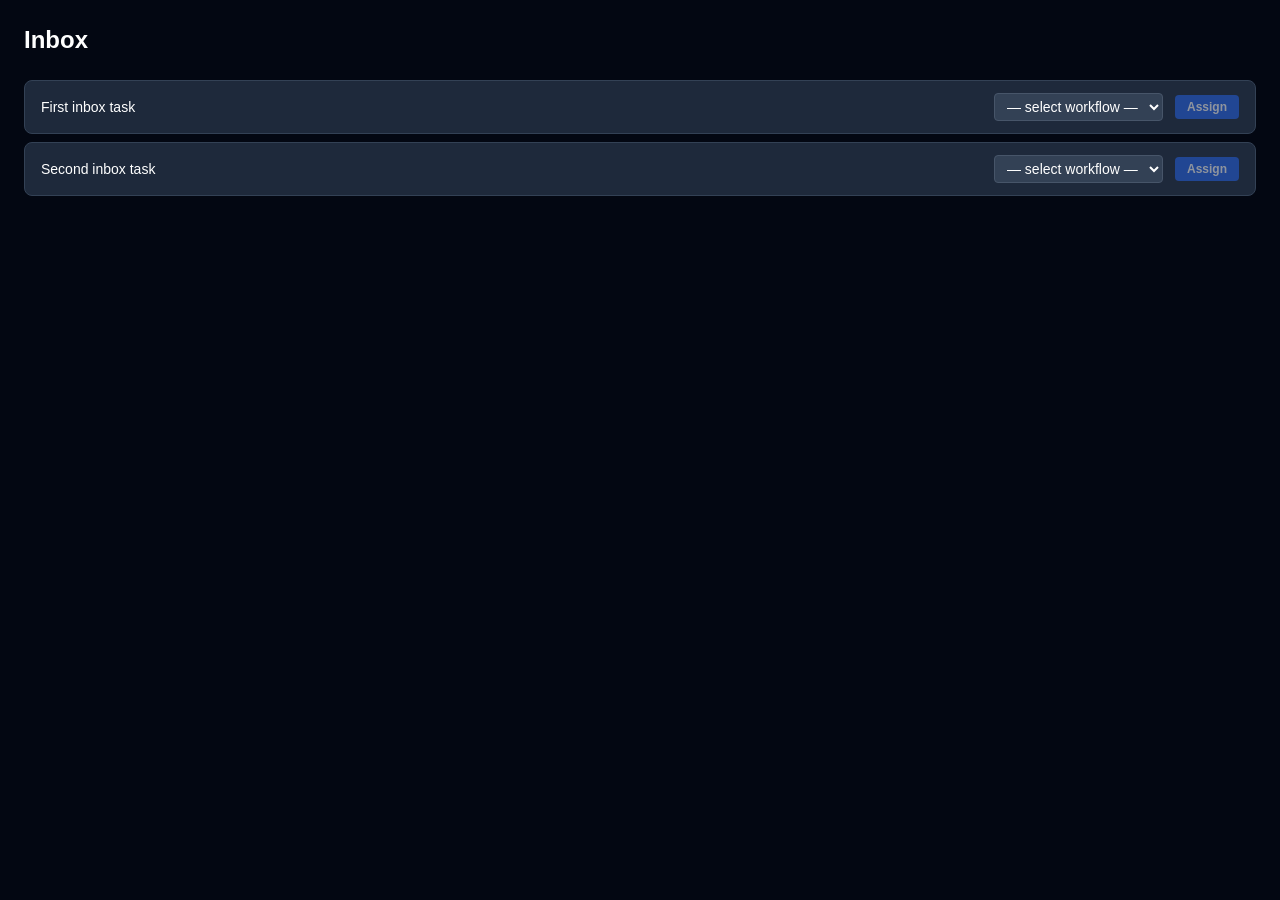
it: shows a toast and keeps the task in the list when the Assign PATCH returns a 500
Expected: the text "First inbox task" is shown, [41,99,135,115]
Select "Alpha" in the dropdown named "Assign \"First inbox task\" to a workflow" at (1078, 107), box [994,93,1163,121]
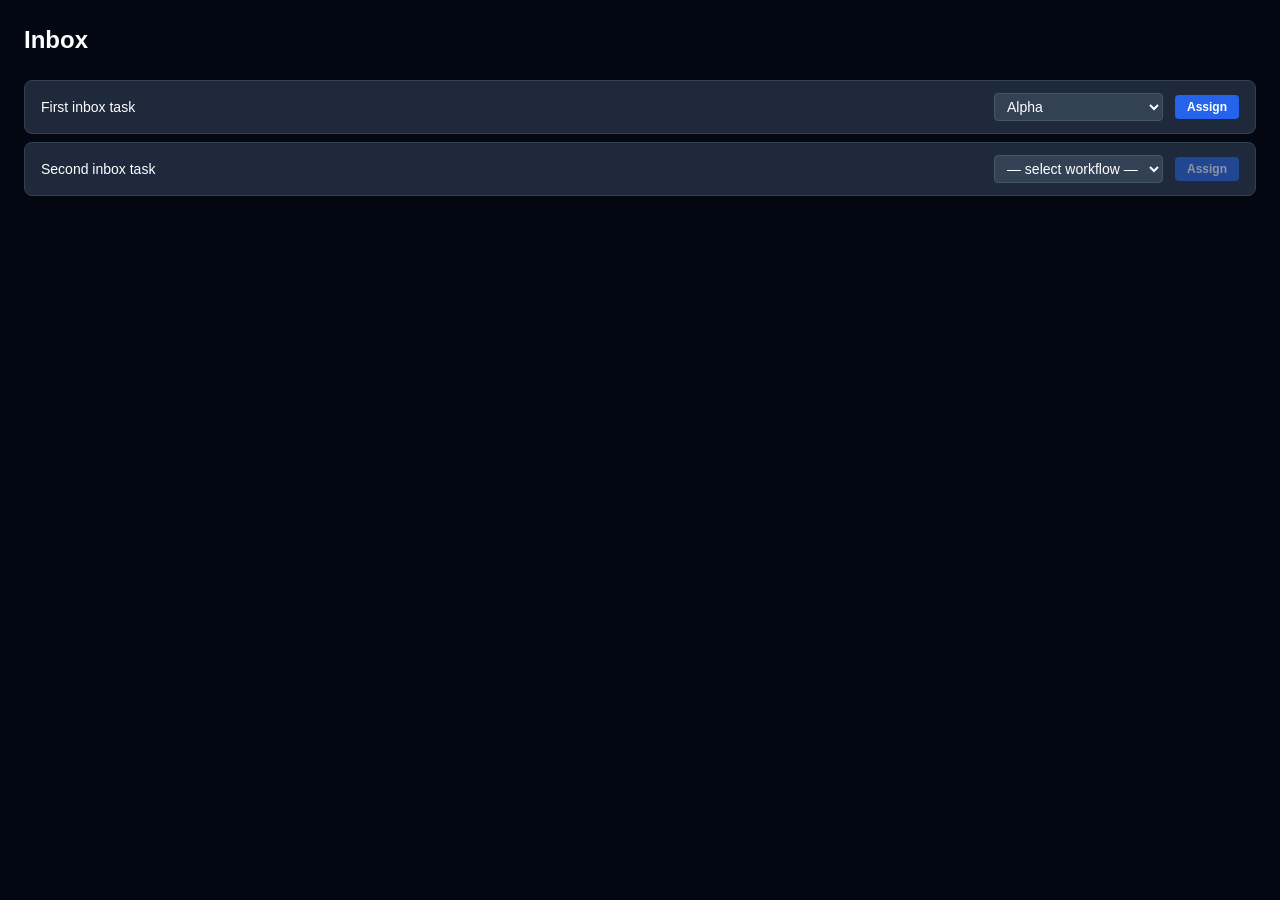
Click the button "Assign" in the row of "First inbox task" at (1207, 107), box [1175,95,1239,119]
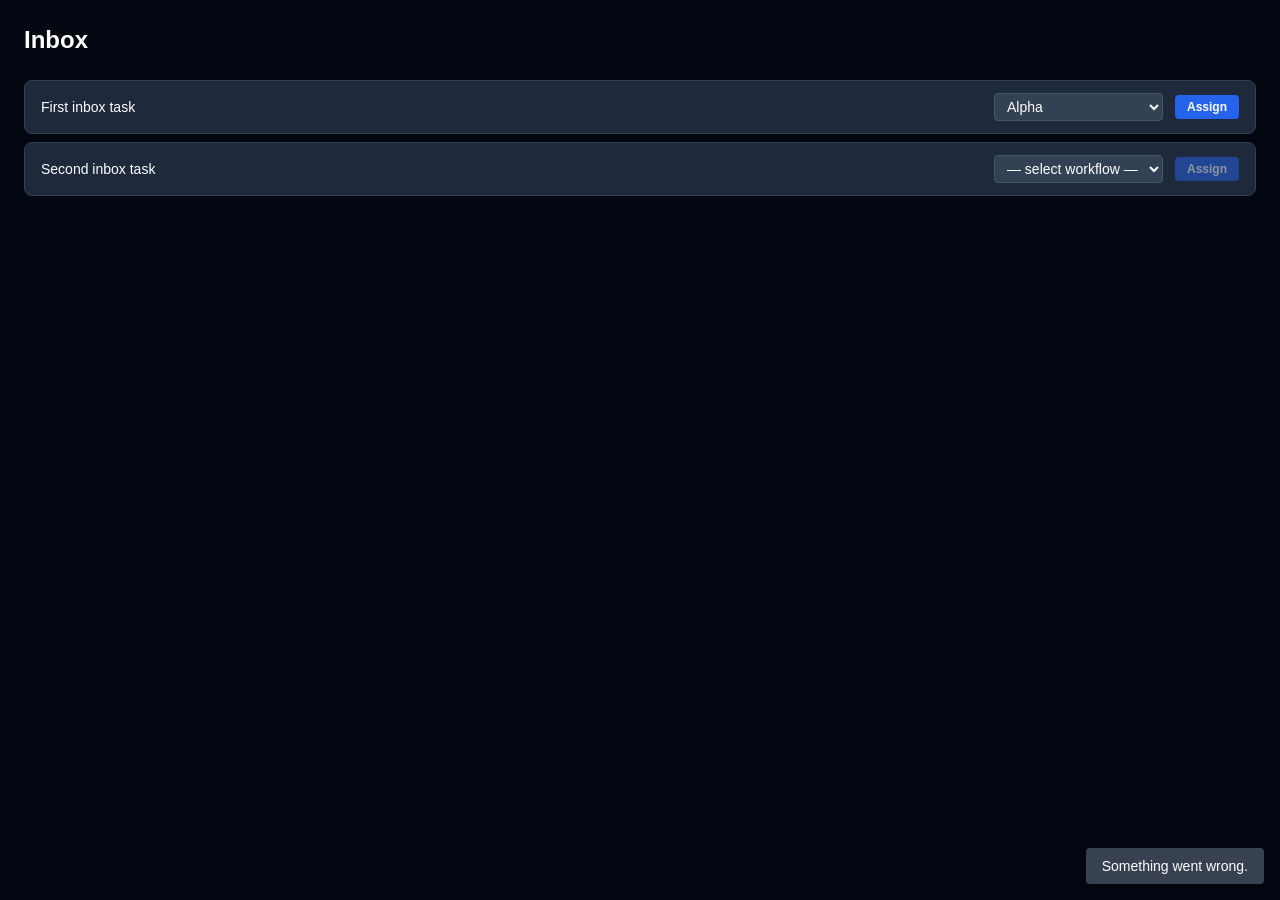
Expected: the text "First inbox task" is shown, [41,99,135,115]
Now the text "Something went wrong." is shown, box [1086,848,1264,884]
